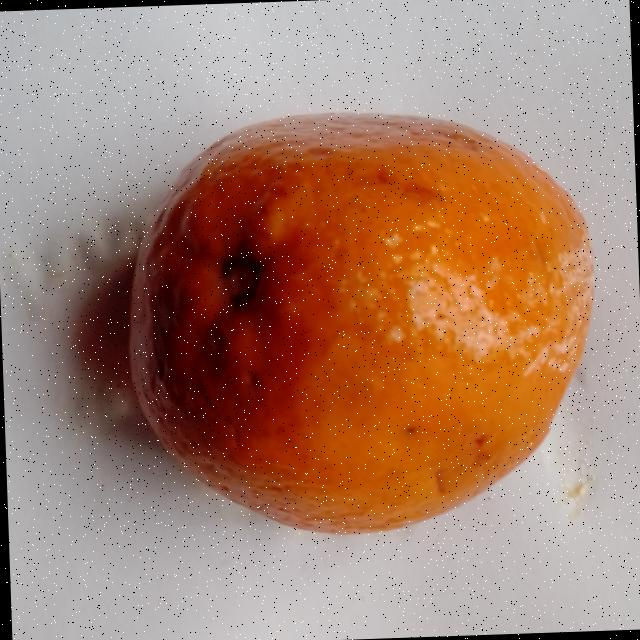Rotten: (122, 102, 600, 542)
